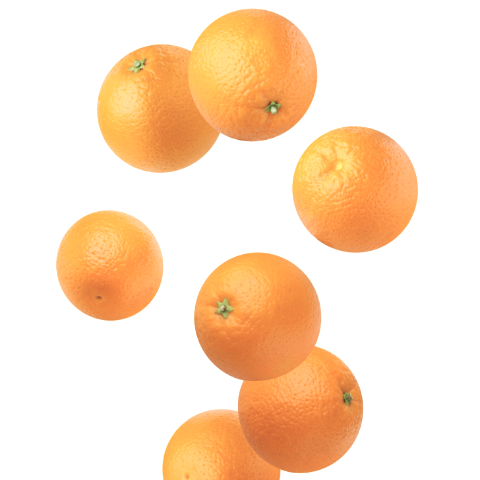orange: (181, 0, 325, 147), (226, 339, 383, 473), (286, 124, 428, 272), (88, 39, 230, 175), (185, 250, 325, 386), (54, 201, 164, 326), (154, 395, 282, 480)
